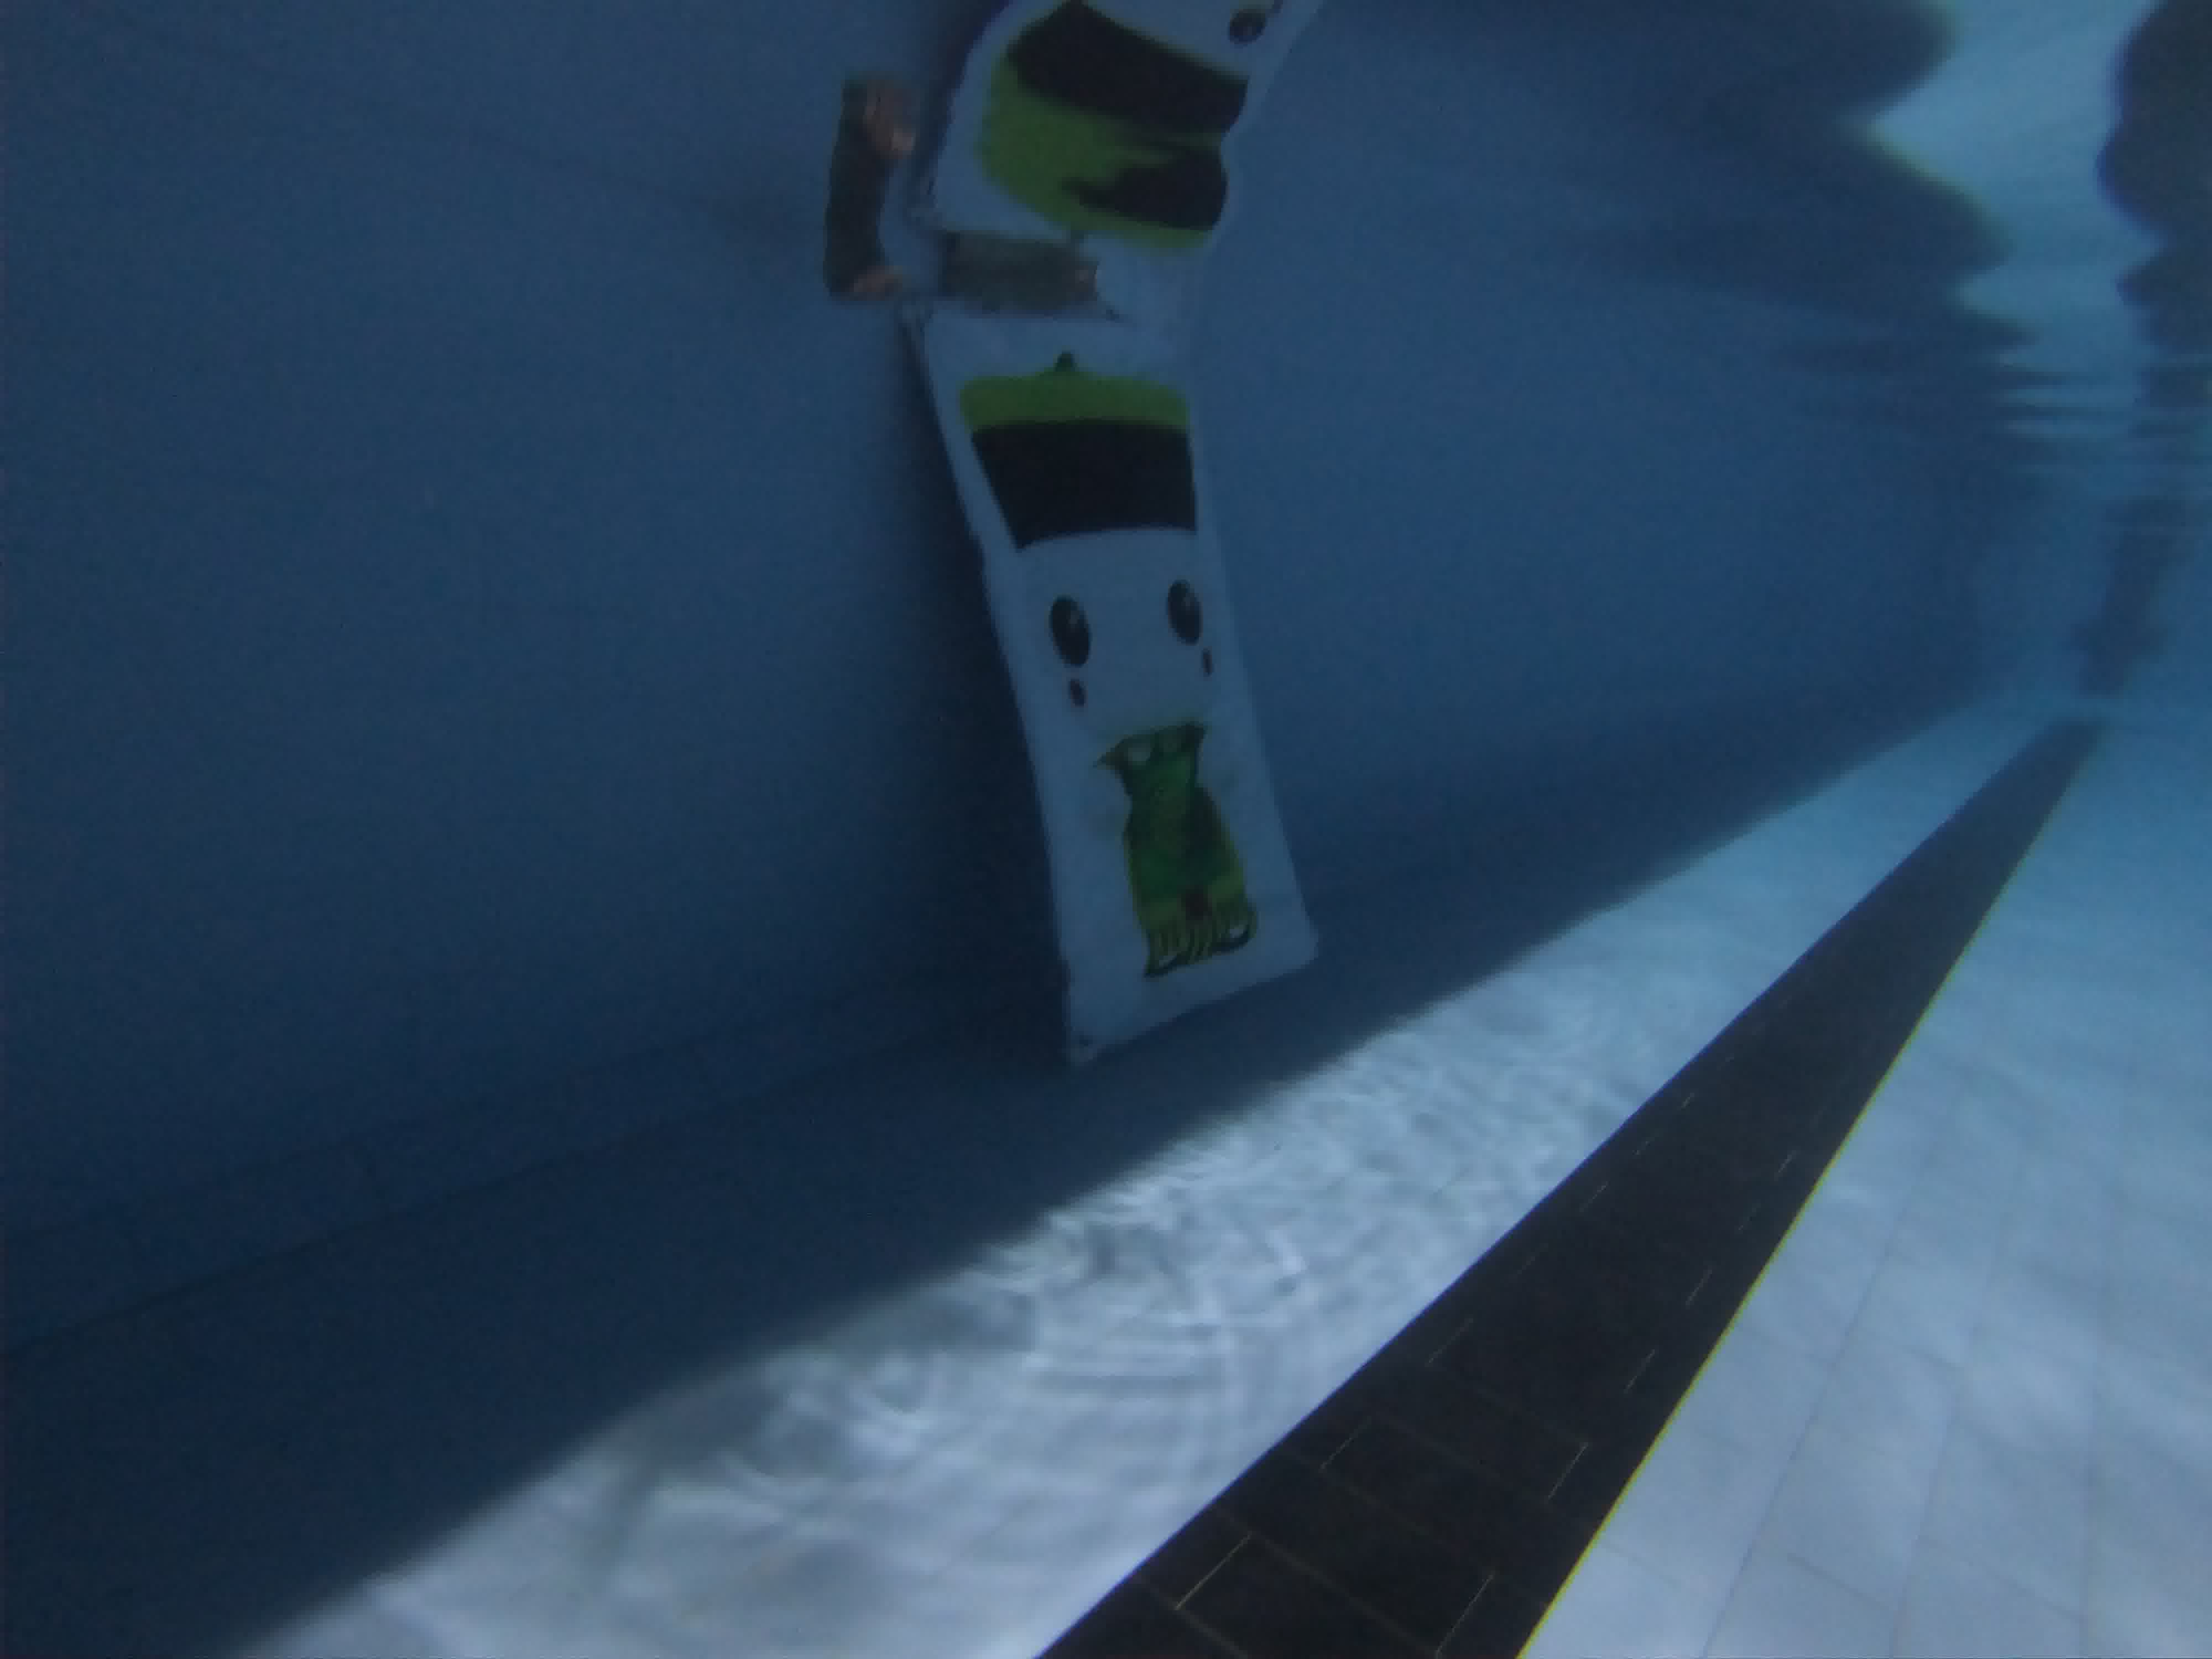jiangshi: (939, 340, 1348, 979)
